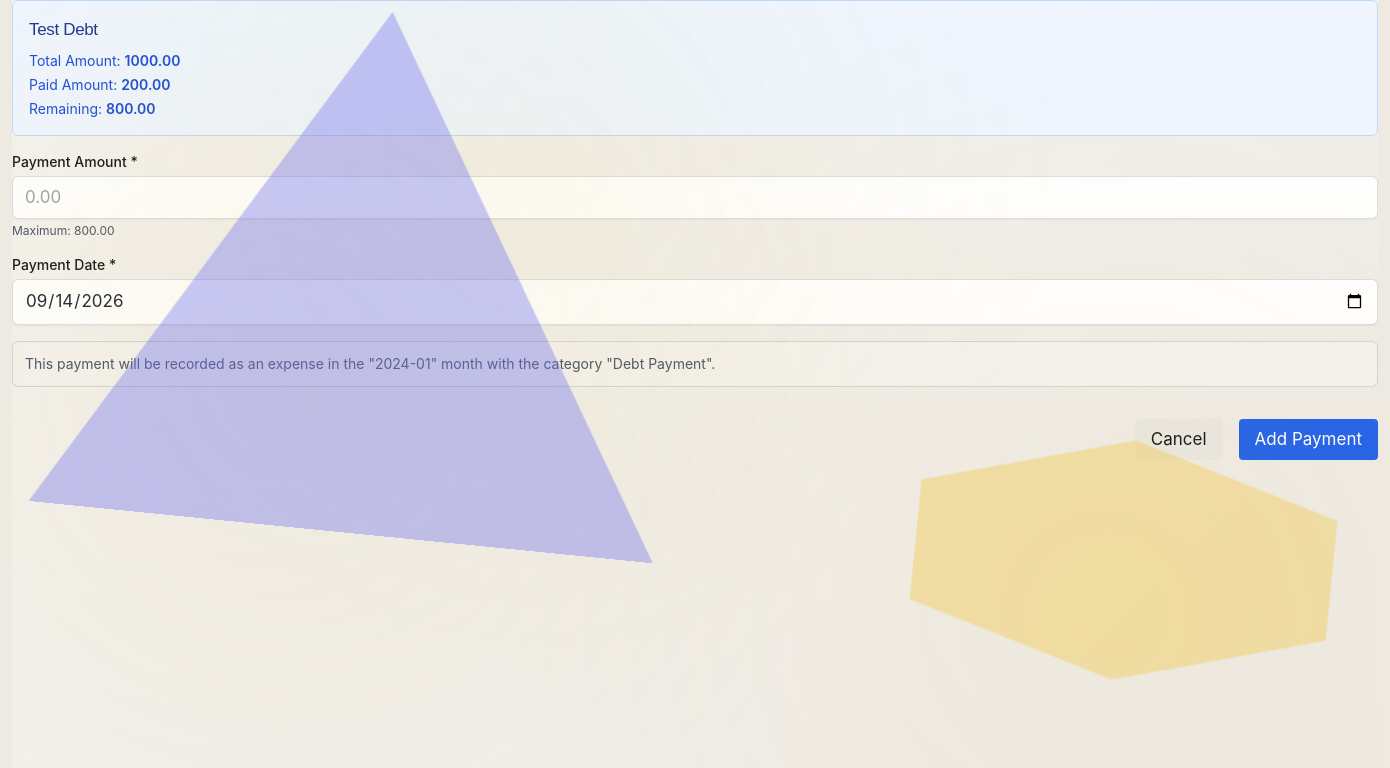
Test: DebtPaymentModal - Input Field Fix › should allow only one decimal point
Note: Try to type multiple decimal points
Step 1. Type "12.34.56" into the field labelled "Payment Amount" → (695, 197), box [12,176,1378,219]
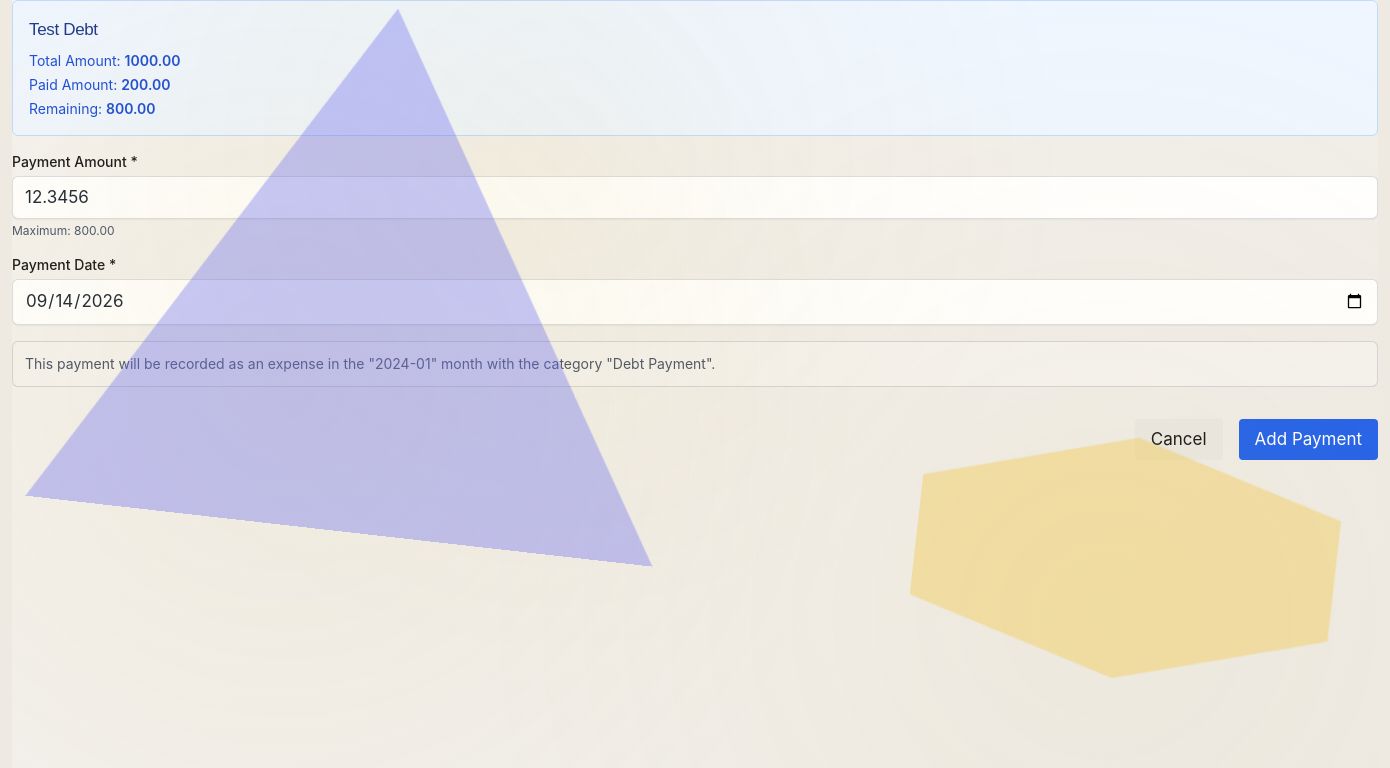
Result: the field labelled "Payment Amount" holds "12.3456" at [12,176,1378,219]
